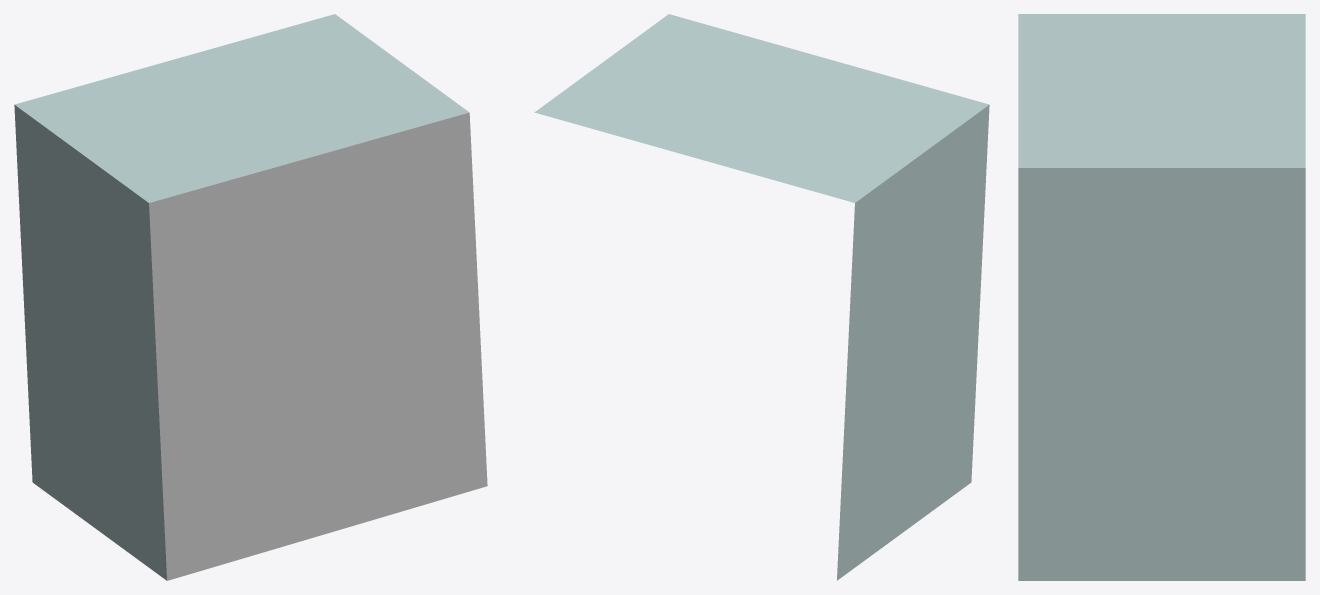
3 renders of one model, left to right at view 1: azimuth 30°, elevation 25°; view 2: azimuth 150°, elevation 25°; view 3: azimuth 270°, elevation 25°, orthographic. The views are drawn at different scales.
Parts seen in each view (by area): view 1: 0_2_2_1_0_0_3_1_2; view 2: 0_2_2_1_0_0_3_1_2; view 3: 0_2_2_1_0_0_3_1_2.
Part boxes in pixels (left/top/right/bottom): 0_2_2_1_0_0_3_1_2: left=14, top=14, right=487, bottom=580; 0_2_2_1_0_0_3_1_2: left=534, top=14, right=989, bottom=580; 0_2_2_1_0_0_3_1_2: left=1018, top=14, right=1305, bottom=580.
Size of the model in its own units: 4.36 by 4.85 by 3.
